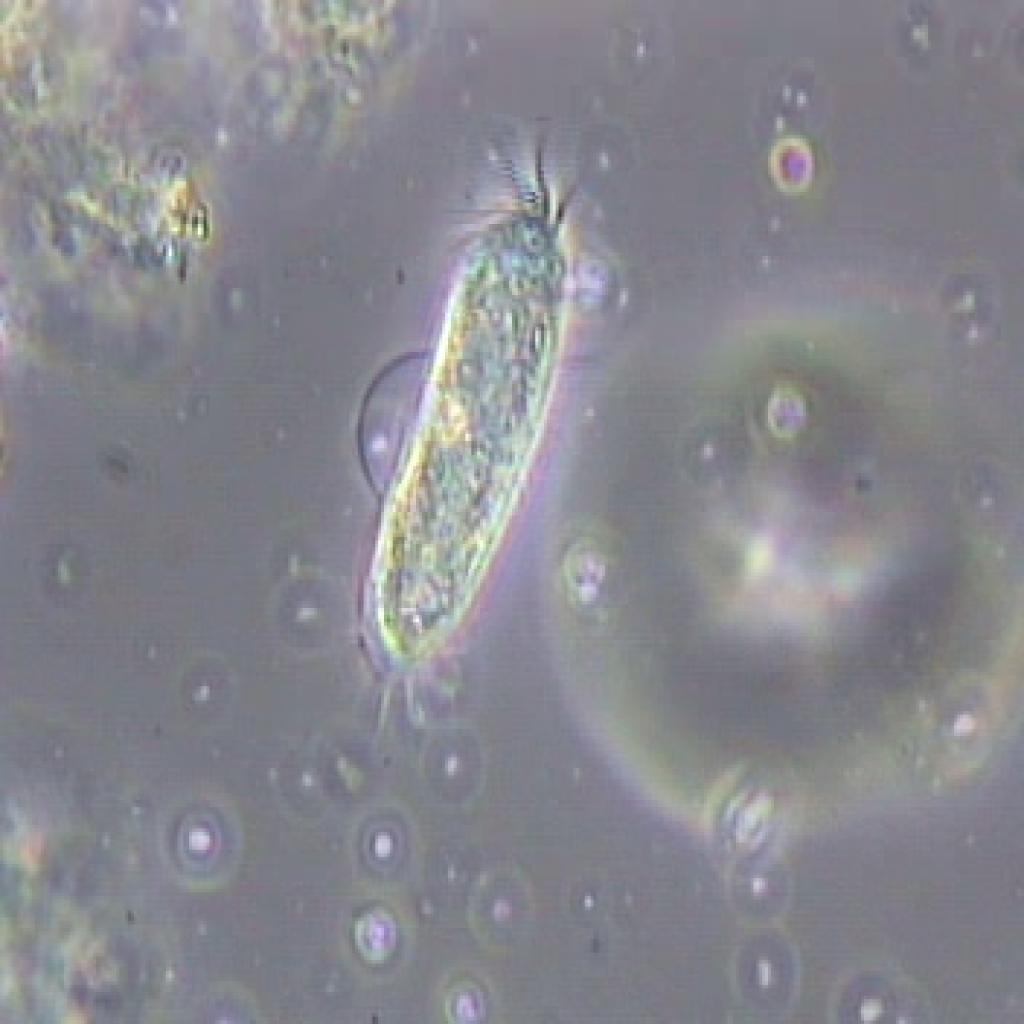Stylonychia: (329, 118, 599, 732)
